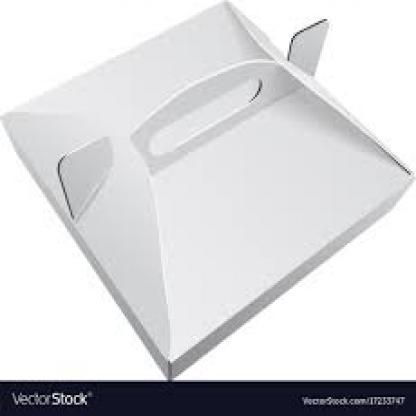CARDBOARD: (0, 0, 414, 378)
